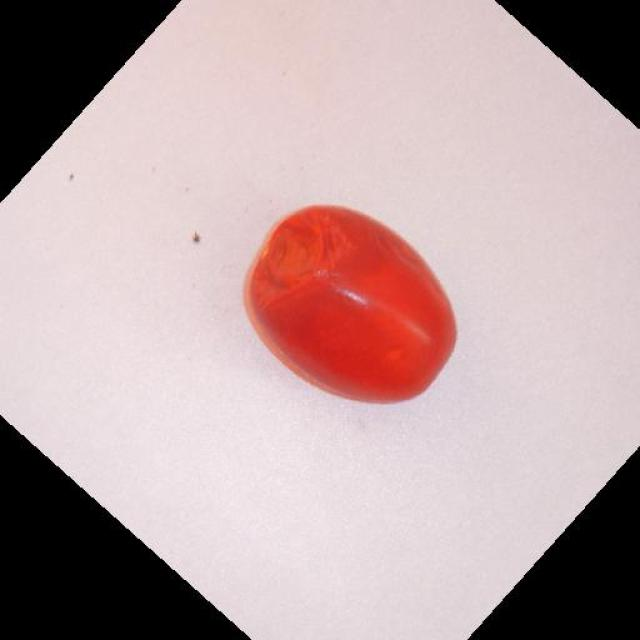Stale_tomato: (252, 177, 385, 312)
